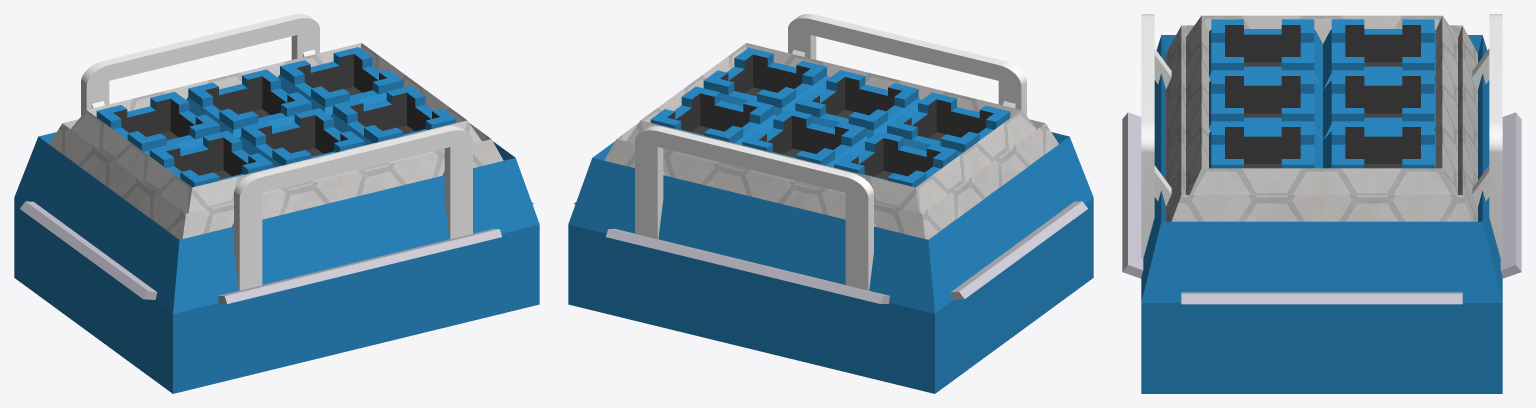
File: RocketVolley.fbx
The picture shows the model from 3 angles, left to right: view 1: azimuth 30°, elevation 25°; view 2: azimuth 150°, elevation 25°; view 3: azimuth 270°, elevation 25°; orthographic projection. The views are drawn at different scales.
Visible parts, largest first — view 1: block_default_82, roof_default_121, detail_rollbar_89, roof_default_119, detail_rollbar_88, roof_helipad_96, roof_default_109, engine_default_51, engine_default_48, engine_default_53, engine_default_49, engine_default_50 (+16 smaller); view 2: block_default_82, roof_default_117, detail_rollbar_88, roof_default_119, detail_rollbar_89, roof_helipad_96, roof_default_113, engine_default_50, engine_default_49, engine_default_52, engine_default_51, engine_default_48 (+16 smaller); view 3: block_default_82, roof_default_115, roof_helipad_96, engine_default_49, engine_default_52, engine_default_48, engine_default_53, roof_default_107, engine_default_50, engine_default_51, detail_rollbar_88, detail_rollbar_89 (+18 smaller).
Boxes of the visible parts, x1,y1,x2,y2 form: block_default_82: (14,198,539,393); roof_default_121: (194,161,509,306); detail_rollbar_89: (232,126,472,290); roof_default_119: (34,143,170,300); detail_rollbar_88: (81,14,319,115); roof_helipad_96: (20,201,533,303); roof_default_109: (216,150,444,229); engine_default_51: (278,47,403,115); engine_default_48: (186,69,311,138); engine_default_53: (96,92,219,155); engine_default_49: (239,108,364,167); engine_default_50: (331,86,456,145); block_default_82: (568,198,1093,393); roof_default_117: (598,161,913,306); detail_rollbar_88: (635,126,875,290); roof_default_119: (937,143,1073,300); detail_rollbar_89: (788,14,1026,115); roof_helipad_96: (574,201,1087,303); roof_default_113: (663,150,891,229); engine_default_50: (703,48,829,116); engine_default_49: (795,70,920,138); engine_default_52: (887,92,1010,156); engine_default_51: (650,86,776,144); engine_default_48: (742,109,867,167); block_default_82: (1141,303,1502,393); roof_default_115: (1181,221,1462,292); roof_helipad_96: (1122,112,1521,304); engine_default_49: (1209,70,1322,140); engine_default_52: (1209,19,1322,89); engine_default_48: (1323,70,1435,140); engine_default_53: (1323,19,1435,89); roof_default_107: (1221,195,1422,221); engine_default_50: (1209,121,1322,168); engine_default_51: (1323,121,1435,168); detail_rollbar_88: (1472,14,1502,258); detail_rollbar_89: (1141,14,1171,258).
Size of the model in its own units: 25.59 by 12.2 by 19.9.
Materials: 6 (1 with a texture image).
